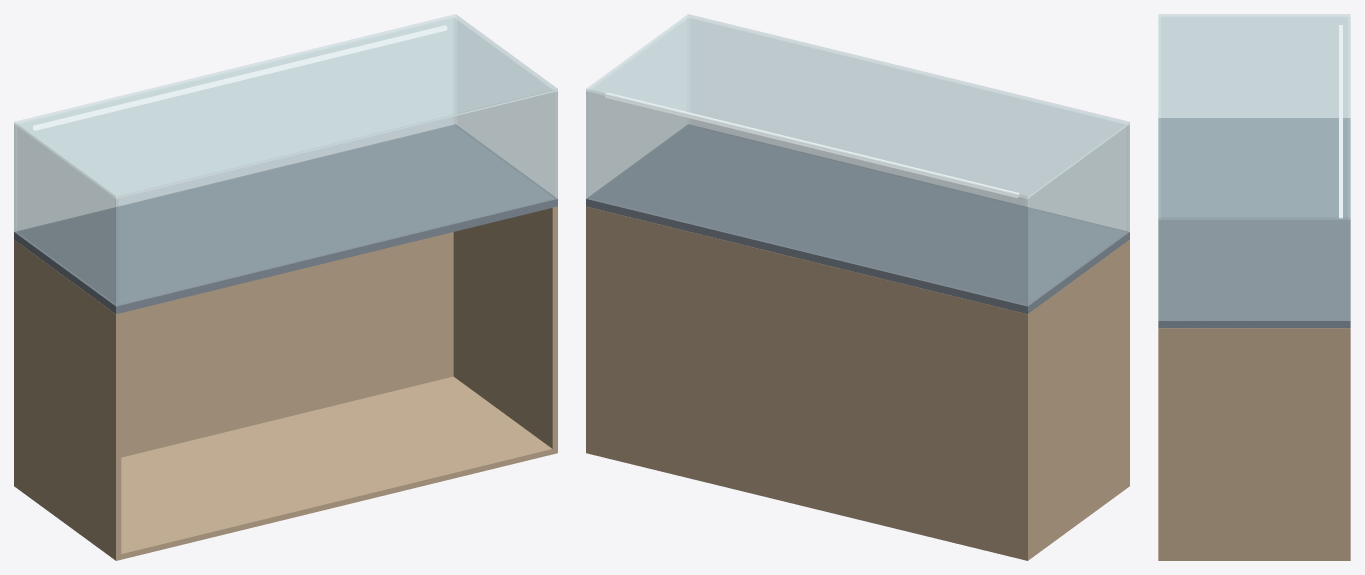
The model's file is showcase-demo.glb.
3 views of the same model, side by side, from view 1: azimuth 30°, elevation 25°; view 2: azimuth 150°, elevation 25°; view 3: azimuth 270°, elevation 25° (orthographic). The views are drawn at different scales.
Visible parts, largest first — view 1: 金属台面, 背板, 玻璃正面, 玻璃顶, 玻璃背面, 底板, 左侧板, 右侧板, 玻璃左侧, 玻璃右侧, 灯条; view 2: 背板, 金属台面, 玻璃背面, 玻璃顶, 玻璃正面, 左侧板, 玻璃左侧, 玻璃右侧, 灯条, 右侧板, 底板; view 3: 右侧板, 金属台面, 玻璃顶, 玻璃右侧, 玻璃左侧, 底板, 灯条, 玻璃正面, 玻璃背面.
Boxes of the visible parts, x1,y1,x2,y2 form: 金属台面: (14,124,557,314); 背板: (121,232,453,457); 玻璃正面: (115,91,557,305); 玻璃顶: (14,14,557,198); 玻璃背面: (14,17,453,232); 底板: (14,376,557,560); 左侧板: (14,240,121,560); 右侧板: (453,206,557,454); 玻璃左侧: (14,124,118,305); 玻璃右侧: (455,17,557,198); 灯条: (33,25,447,130); 背板: (591,208,1022,559); 金属台面: (586,124,1129,314); 玻璃背面: (586,91,1028,305); 玻璃顶: (586,14,1129,198); 玻璃正面: (690,17,1129,232); 左侧板: (1022,240,1129,560); 玻璃左侧: (1025,124,1129,305); 玻璃右侧: (586,17,688,198); 灯条: (605,92,1019,197); 右侧板: (586,206,591,454); 底板: (586,447,1129,560); 右侧板: (1158,328,1350,560); 金属台面: (1158,118,1350,328); 玻璃顶: (1158,14,1350,219); 玻璃右侧: (1158,218,1350,320); 玻璃左侧: (1161,16,1347,117); 底板: (1158,555,1350,560); 灯条: (1339,25,1342,218); 玻璃正面: (1159,17,1160,320); 玻璃背面: (1348,17,1349,320).
Bounding box in the file's own units: 1.5 × 1.18 × 0.6.
